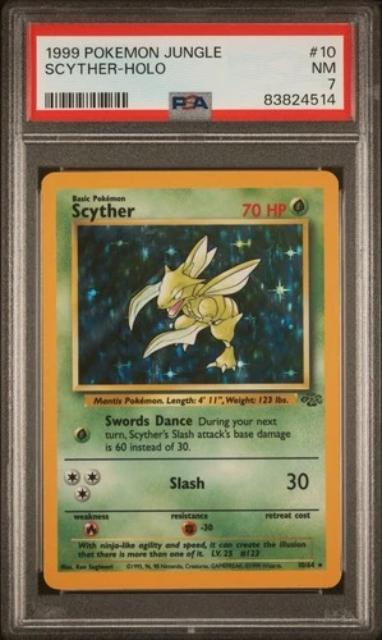Card: (37, 166, 344, 593)
Name: (65, 200, 133, 220)
